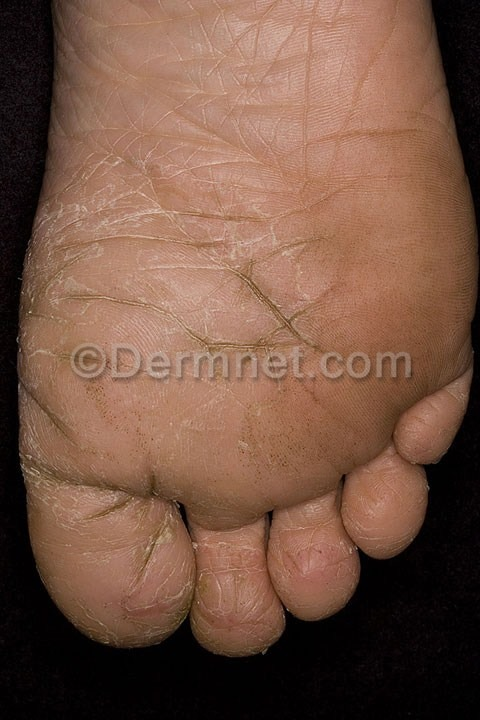Eczema: (9, 123, 480, 655)
